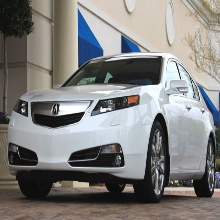no damage: (8, 52, 216, 203)
